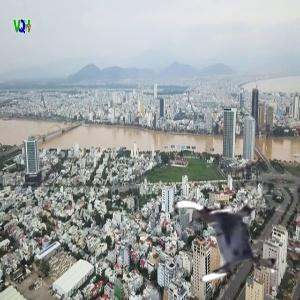drone: (173, 183, 283, 293)
